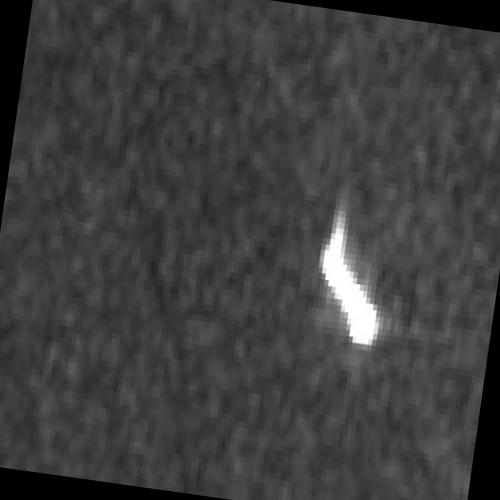ship: (320, 222, 381, 346)
